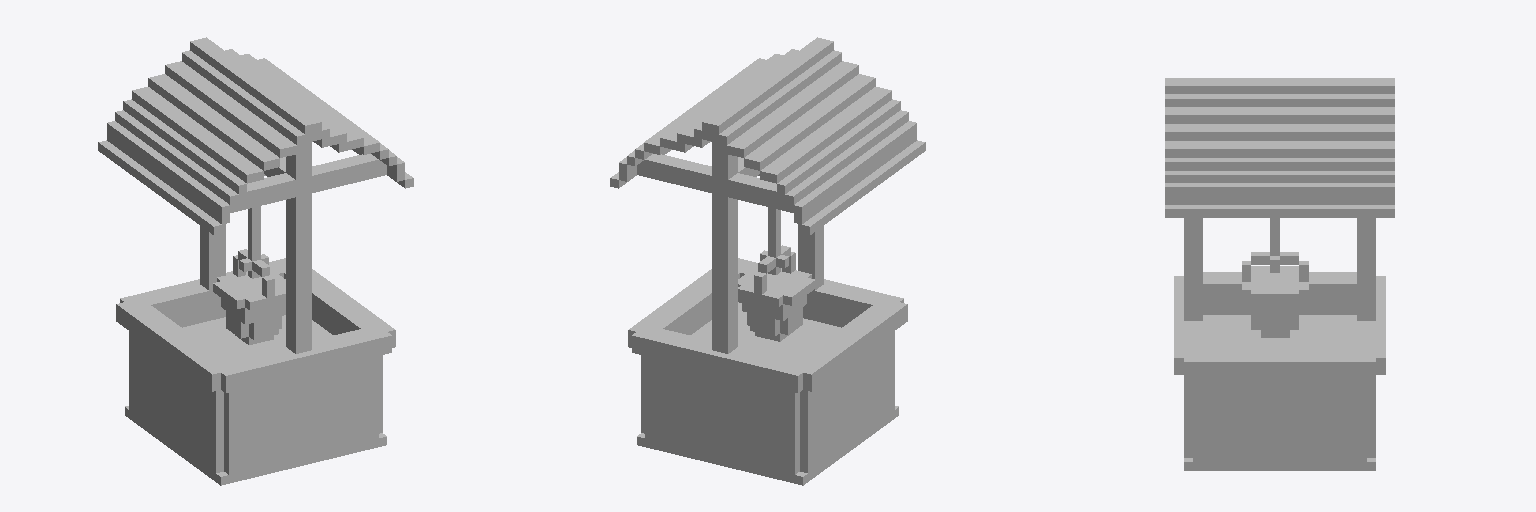
Rendered from Tarefa Poço-23.obj.
The picture shows the model from 3 angles: view 1: azimuth 30°, elevation 25°; view 2: azimuth 150°, elevation 25°; view 3: azimuth 270°, elevation 25°; orthographic projection.
Bounding box in the file's own units: 24 × 40 × 24.